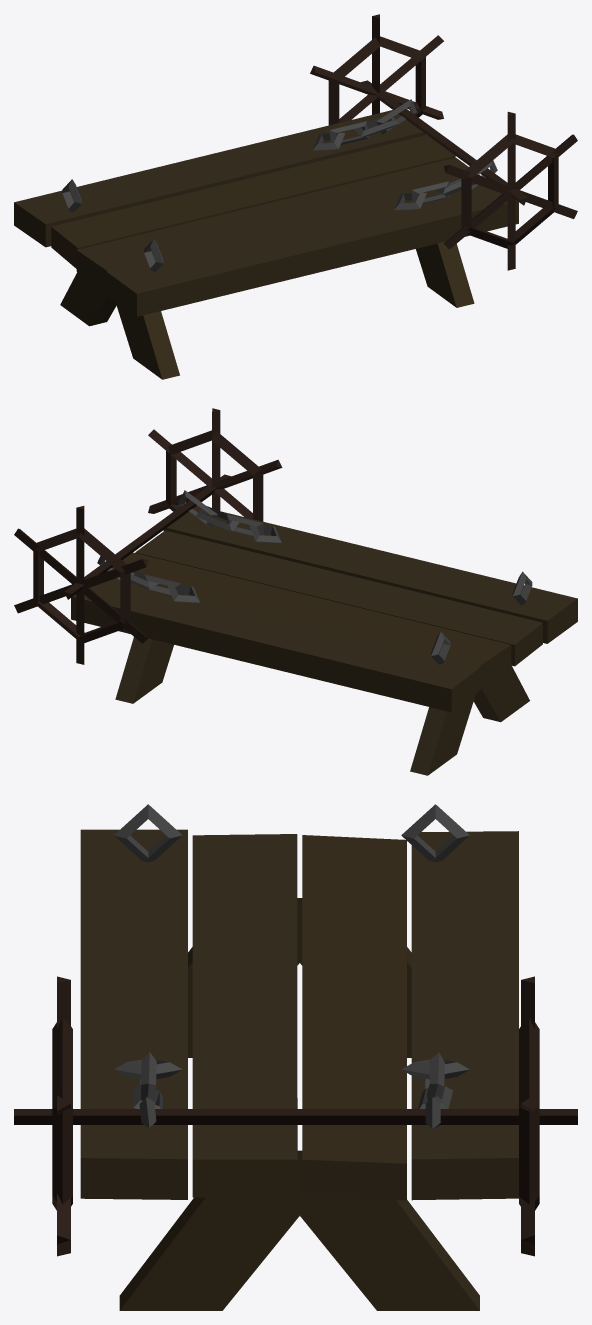
3 renders of one model, top to bottom at view 1: azimuth 30°, elevation 25°; view 2: azimuth 150°, elevation 25°; view 3: azimuth 270°, elevation 25°, orthographic. The views are drawn at different scales.
Visible parts, largest first — view 1: Box034; view 2: Box034; view 3: Box034.
Boxes of the visible parts, left/top/right/bottom form: Box034: left=14, top=14, right=577, bottom=379; Box034: left=14, top=408, right=577, bottom=775; Box034: left=14, top=804, right=577, bottom=1310.
Size of the model in its own units: 2.44 by 1.06 by 1.56.
